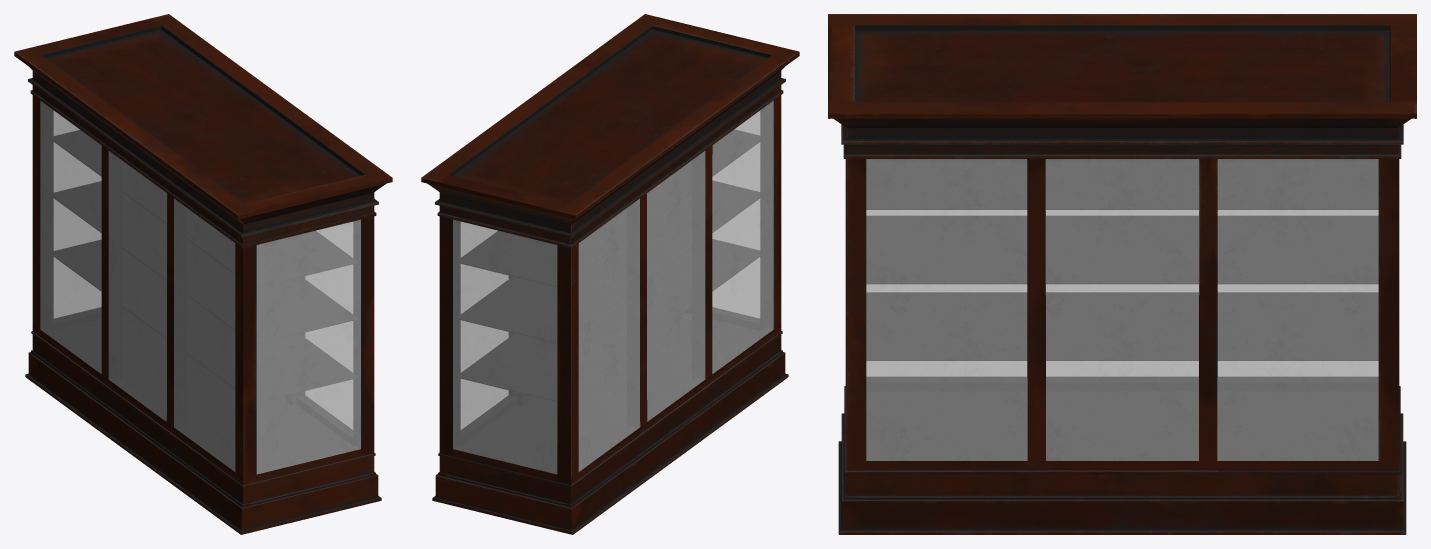
Rendered from cabinet.glb.
3 views of the same model, side by side, from view 1: azimuth 30°, elevation 25°; view 2: azimuth 150°, elevation 25°; view 3: azimuth 270°, elevation 25° (orthographic). The views are drawn at different scales.
Visible parts, largest first — view 1: Main_Cabinet, GLASS; view 2: Main_Cabinet, GLASS; view 3: Main_Cabinet, GLASS.
Boxes of the visible parts, x1,y1,x2,y2 form: Main_Cabinet: (14, 14, 392, 534); GLASS: (40, 101, 360, 474); Main_Cabinet: (421, 14, 799, 534); GLASS: (453, 101, 773, 474); Main_Cabinet: (828, 14, 1416, 534); GLASS: (866, 159, 1378, 460).
Size of the model in its own units: 1.35 by 2.69 by 3.37.
2 materials, 2 textured.
